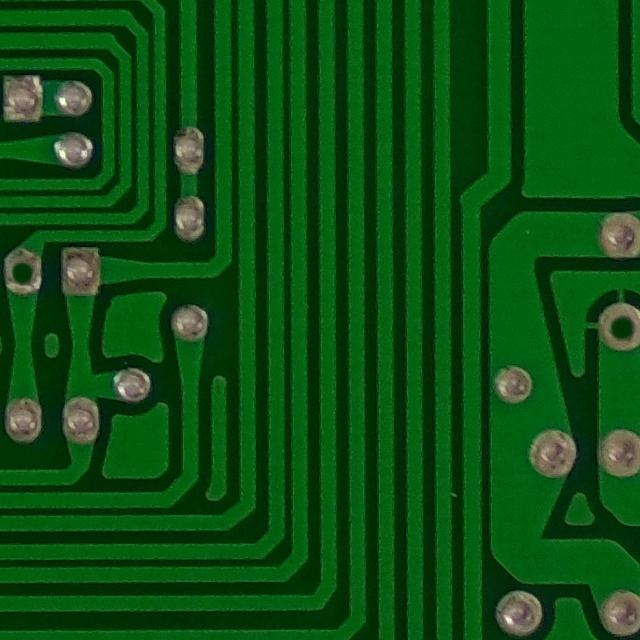missing_hole: (593, 295, 640, 359), (0, 242, 47, 303)
